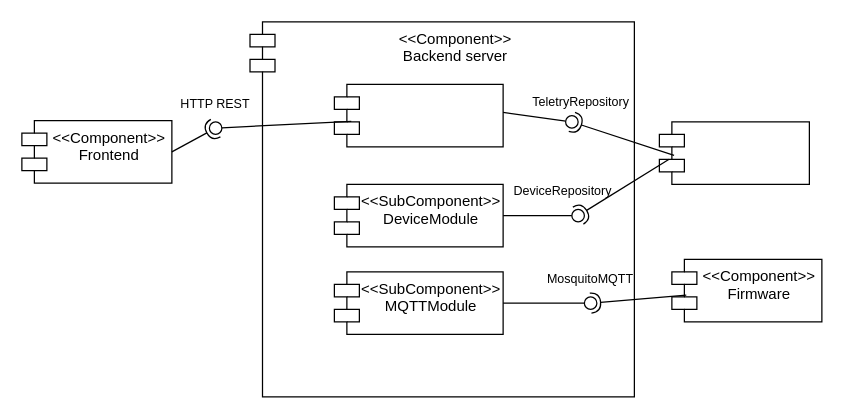
Image size: 844x419. Some labels were removed from this diagram. The centre of each missing label's shape, as x and y in pixels:
"<<Component>> PostgreSQL" belongs at point (733, 152).
"<<SubComponent>> TelemetryModule" belongs at point (418, 115).
